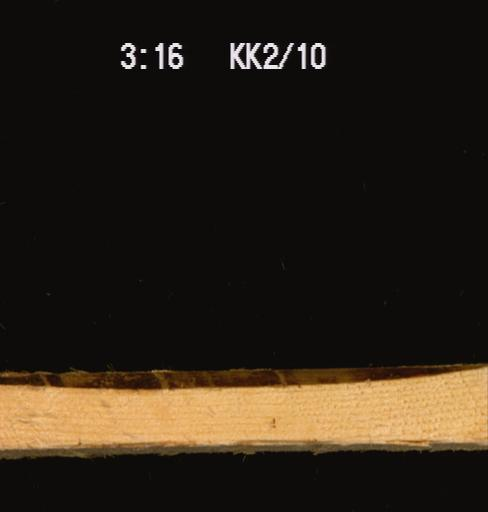wave: (0, 351, 487, 392), (1, 437, 487, 465)
